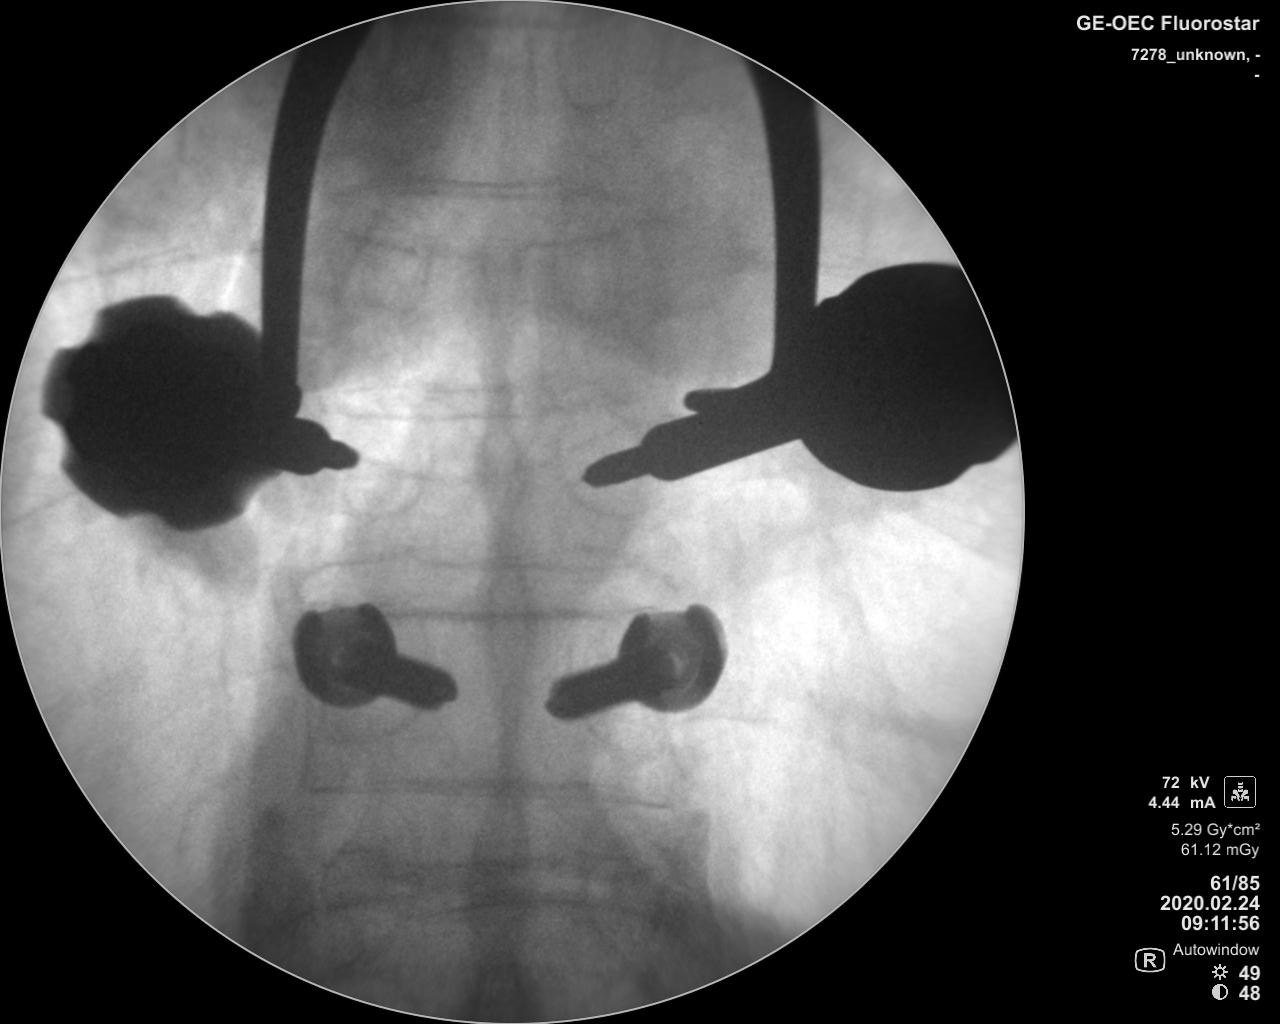eyes: (565, 607, 662, 757), (330, 395, 433, 519), (349, 196, 434, 319), (558, 408, 646, 525), (550, 201, 621, 328)
line: (328, 378, 620, 422), (317, 776, 632, 811), (349, 544, 616, 577), (396, 167, 585, 208), (366, 848, 615, 878), (380, 599, 618, 623)
nose: (462, 787, 534, 947), (474, 552, 539, 715), (465, 393, 528, 537), (461, 223, 516, 367)
